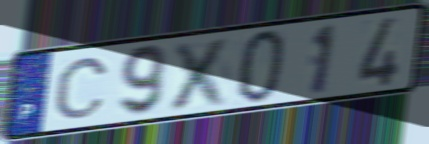0: (234, 27, 288, 106)
1: (310, 21, 339, 96)
4: (356, 14, 403, 89)
9: (116, 43, 169, 119)
C: (52, 55, 111, 121)
X: (164, 34, 237, 113)
